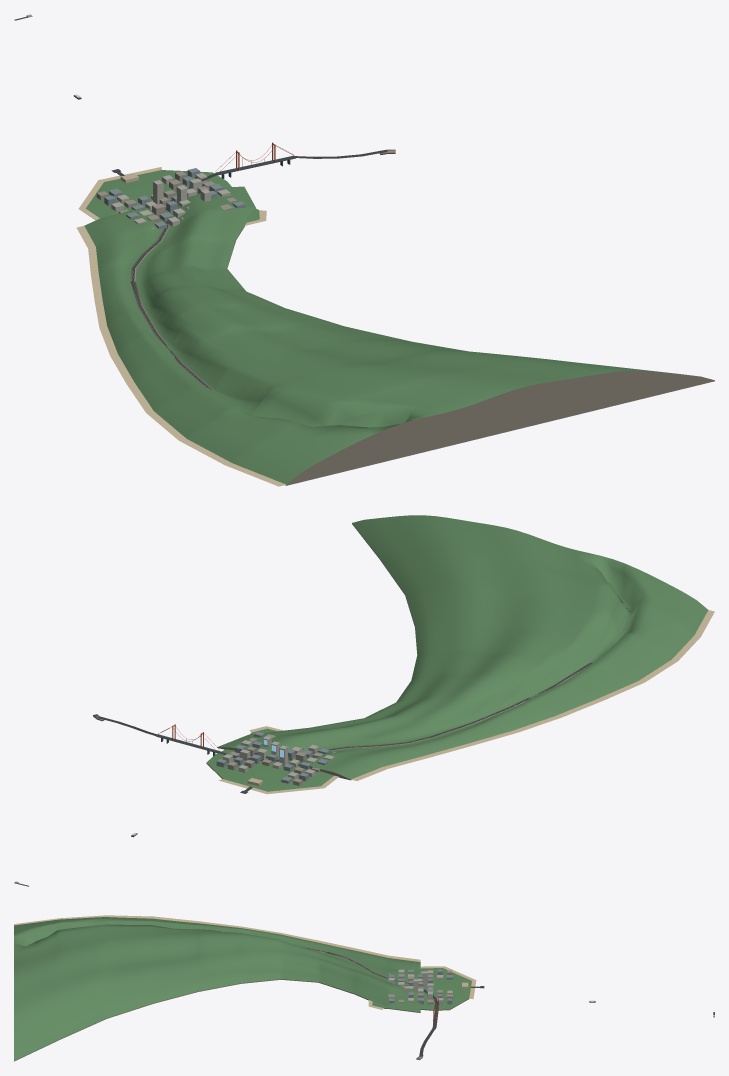
File: far_shore_city_relocation.glb
3 renders of one model, top to bottom at view 1: azimuth 30°, elevation 25°; view 2: azimuth 150°, elevation 25°; view 3: azimuth 270°, elevation 25°, orthographic. The views are drawn at different scales.
Parts seen in each view (by area): view 1: southern_city_range_foothills-col, southern_city_range_beaches, relocated_city_peninsula-col; view 2: southern_city_range_foothills-col, relocated_city_peninsula-col, southern_city_range_beaches; view 3: southern_city_range_foothills-col, relocated_city_peninsula-col, southern_city_range_beaches, relocated_city_peninsula_beaches.
Boxes of the visible parts, x1,y1,x2,y2 form: southern_city_range_foothills-col: (84, 186, 714, 485); southern_city_range_beaches: (77, 226, 285, 486); relocated_city_peninsula-col: (86, 170, 259, 222); southern_city_range_foothills-col: (217, 515, 708, 780); relocated_city_peninsula-col: (206, 728, 333, 791); southern_city_range_beaches: (351, 610, 714, 780); southern_city_range_foothills-col: (14, 917, 420, 1061); relocated_city_peninsula-col: (372, 968, 471, 1010); southern_city_range_beaches: (14, 915, 420, 961); relocated_city_peninsula_beaches: (368, 966, 476, 1009).
Bounding box in the file's own units: 2492 × 208 × 5066.
